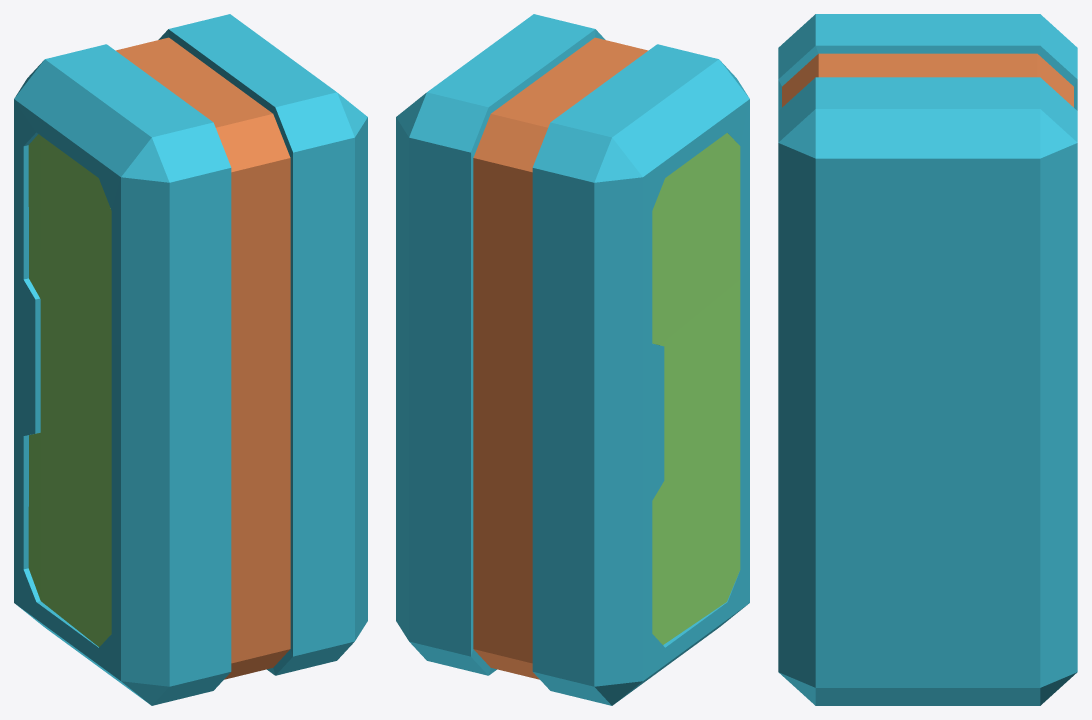
The model's file is Shower.fbx.
The picture shows the model from 3 angles, left to right: view 1: azimuth 30°, elevation 25°; view 2: azimuth 150°, elevation 25°; view 3: azimuth 270°, elevation 25°; orthographic projection. The views are drawn at different scales.
Parts seen in each view (by area): view 1: Bath, Bath.001; view 2: Bath, Bath.001; view 3: Bath.
Part boxes in pixels (left/top/right/bottom): Bath: left=14, top=14, right=367, bottom=705; Bath.001: left=28, top=134, right=111, bottom=646; Bath: left=396, top=14, right=749, bottom=705; Bath.001: left=652, top=133, right=740, bottom=644; Bath: left=778, top=14, right=1077, bottom=705.
Bounding box in the file's own units: 100 × 220 × 100.
